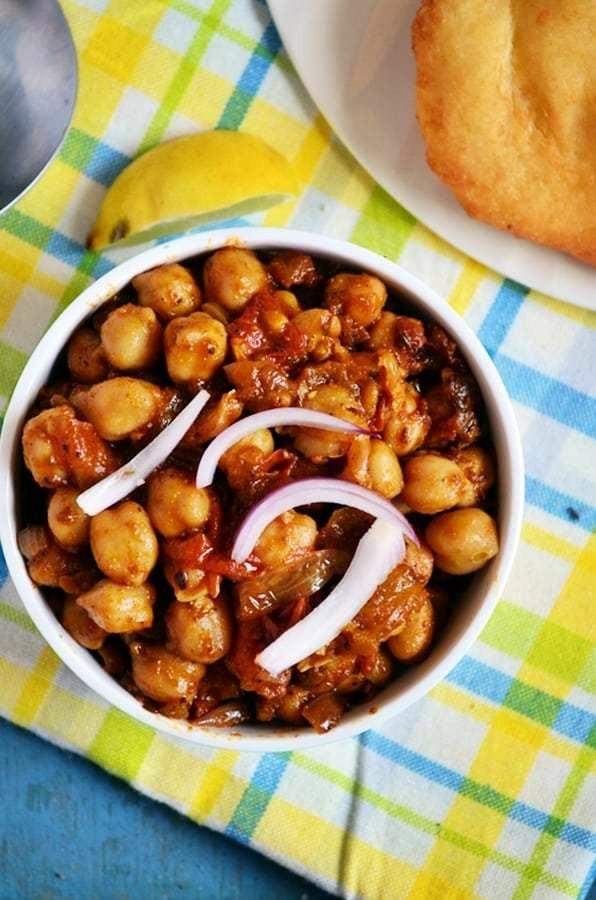Bhatura: (412, 0, 596, 266)
Chole: (19, 238, 497, 731)
